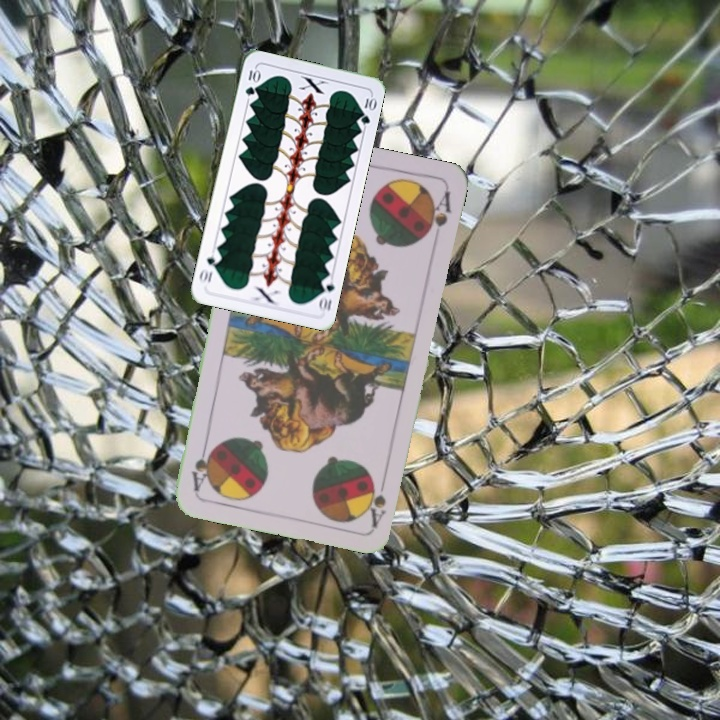G10: (315, 273, 337, 314), (241, 64, 261, 98)
SA: (365, 470, 390, 529)
